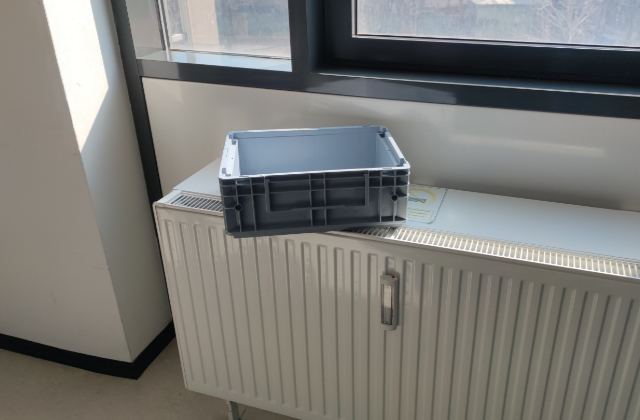Box: (216, 123, 410, 239)
